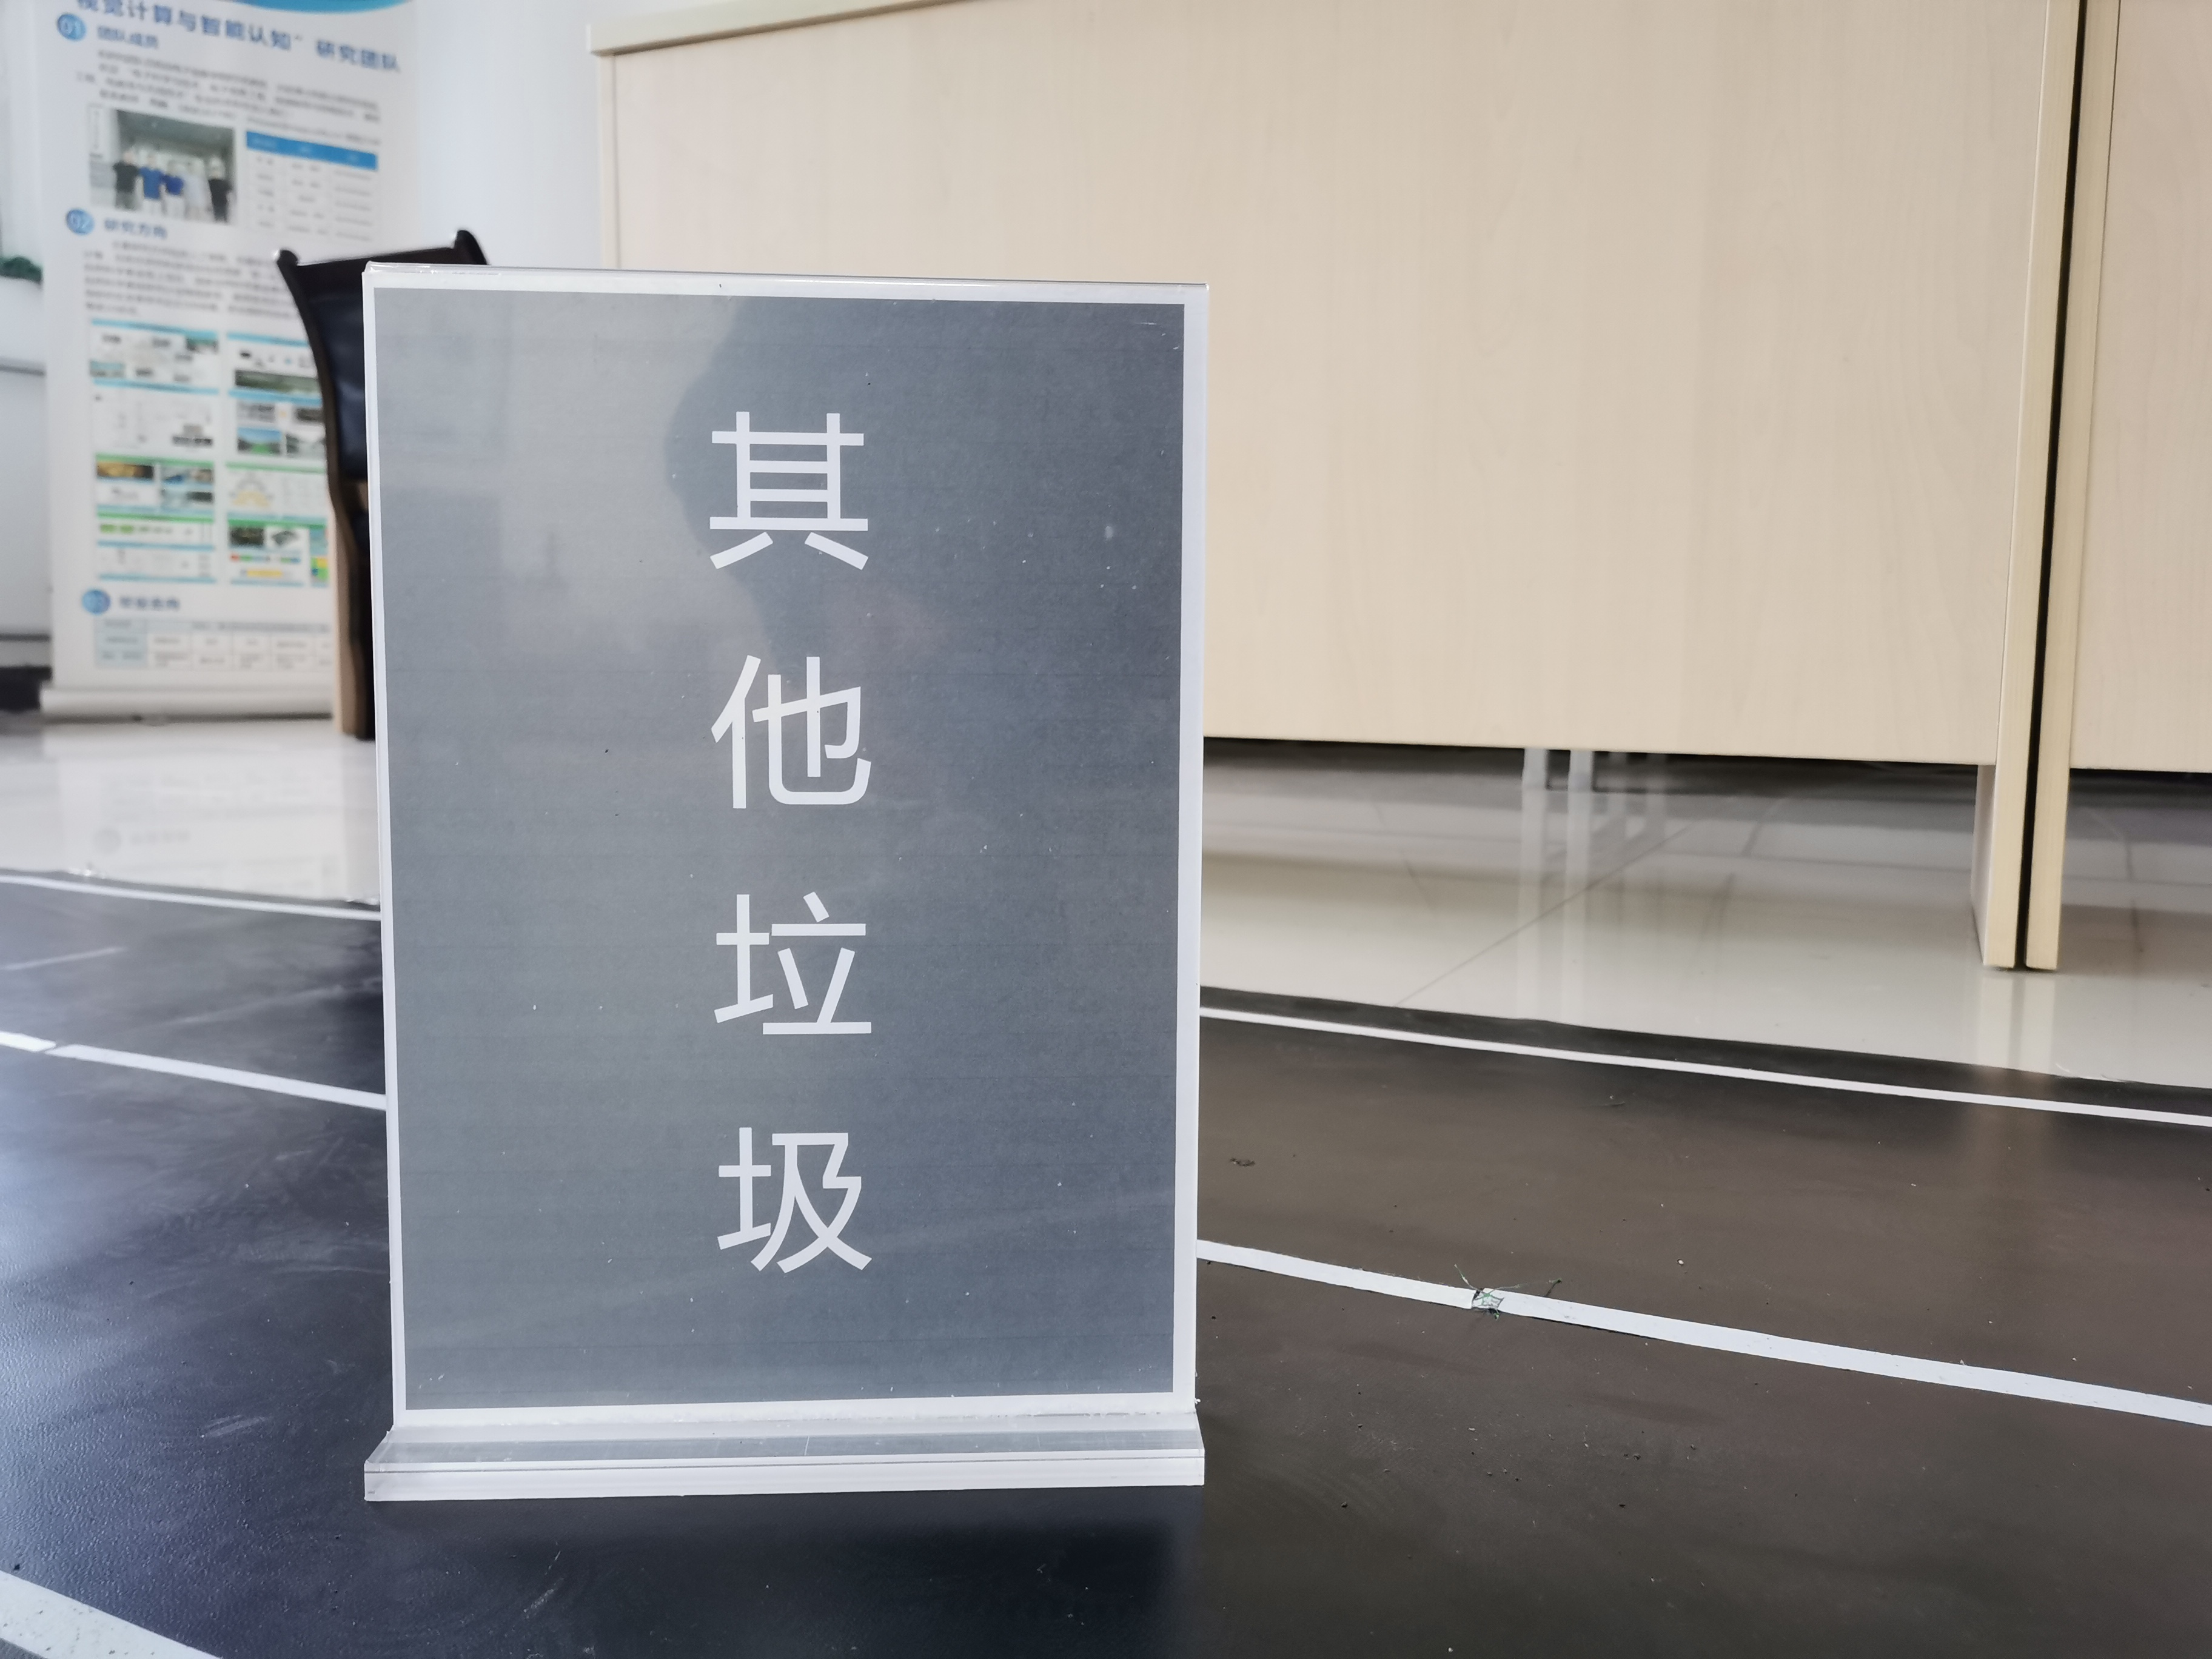black: (402, 307, 1163, 1389)
